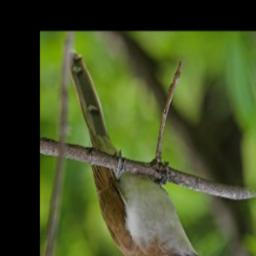Cuckoo: (69, 51, 219, 256)
